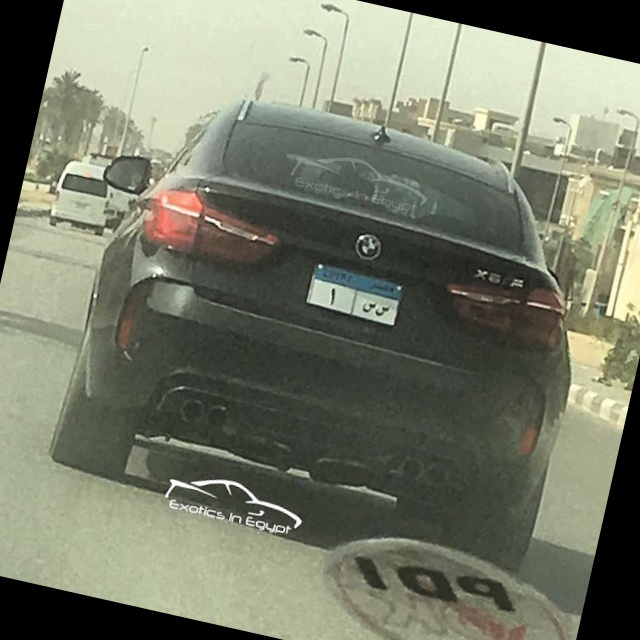License Plate: (300, 257, 411, 332)
